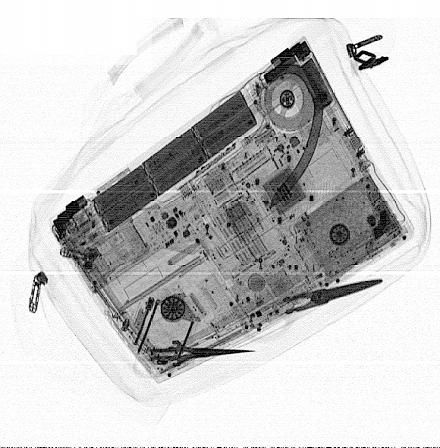Scissors: (232, 273, 386, 343), (128, 311, 260, 382)
